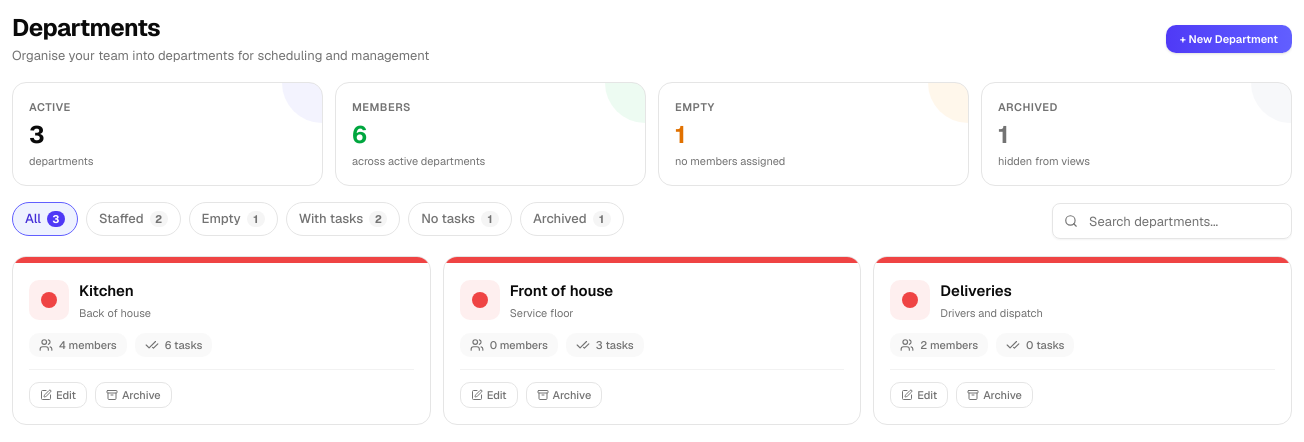
Test: filtering › Empty shows only departments with nobody assigned
Check: the heading "Kitchen" is shown, box [79,281,134,300]
Click the button "Empty 1" at (233,219), box [188,202,278,236]
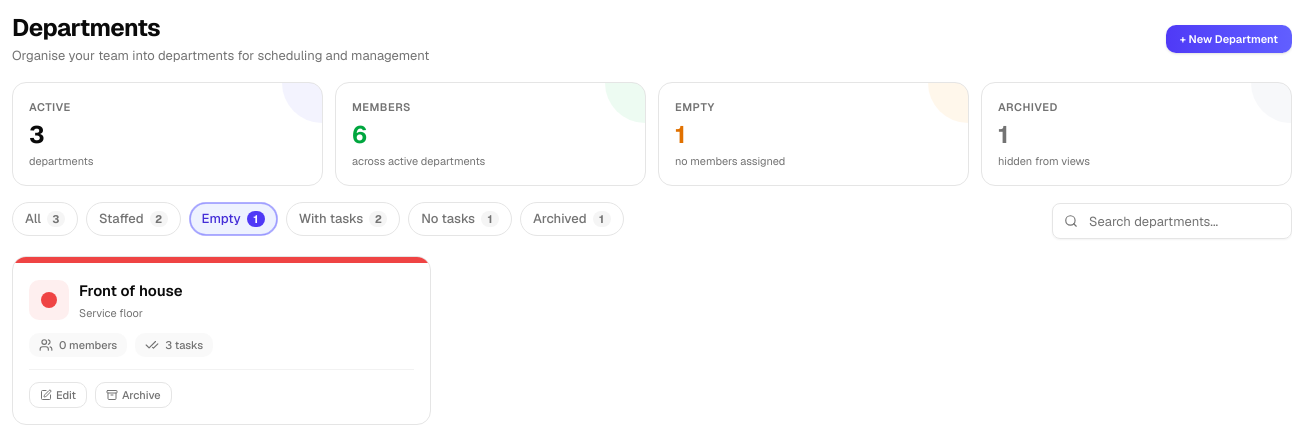
Check: the heading "Front of house" is shown, box [79,279,183,303]
Check: the heading "Kitchen" is gone
Check: the heading "Deliveries" is gone
